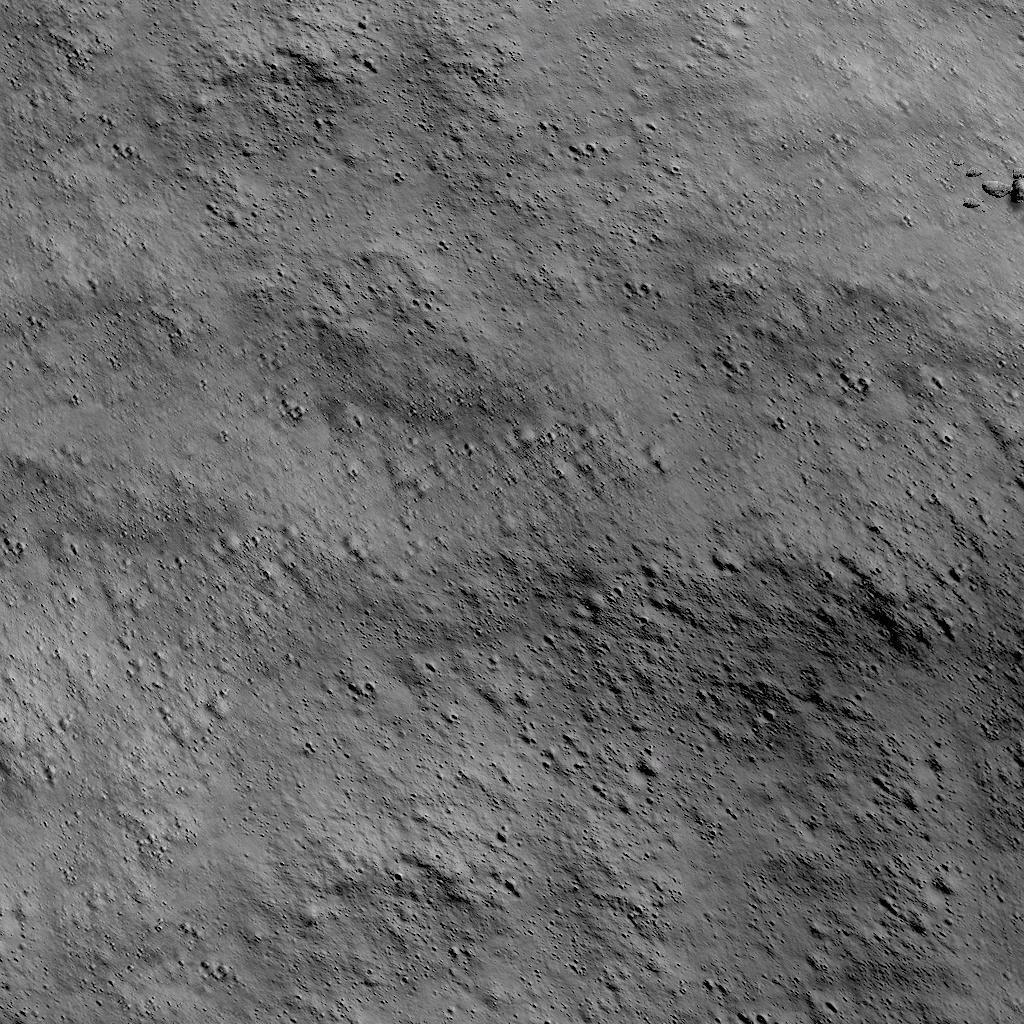Plan surface: (0, 238, 1024, 1024), (0, 0, 938, 223)
